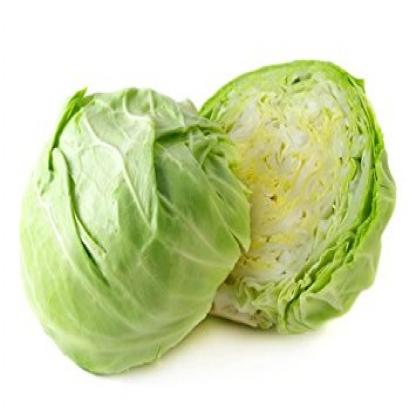---: (15, 87, 251, 380), (204, 53, 396, 346)
